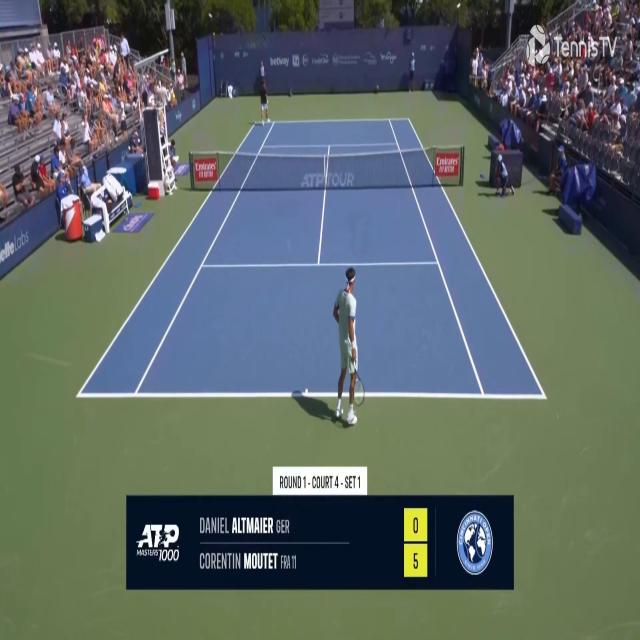tennis-player: (332, 263, 365, 430), (259, 77, 272, 128)
